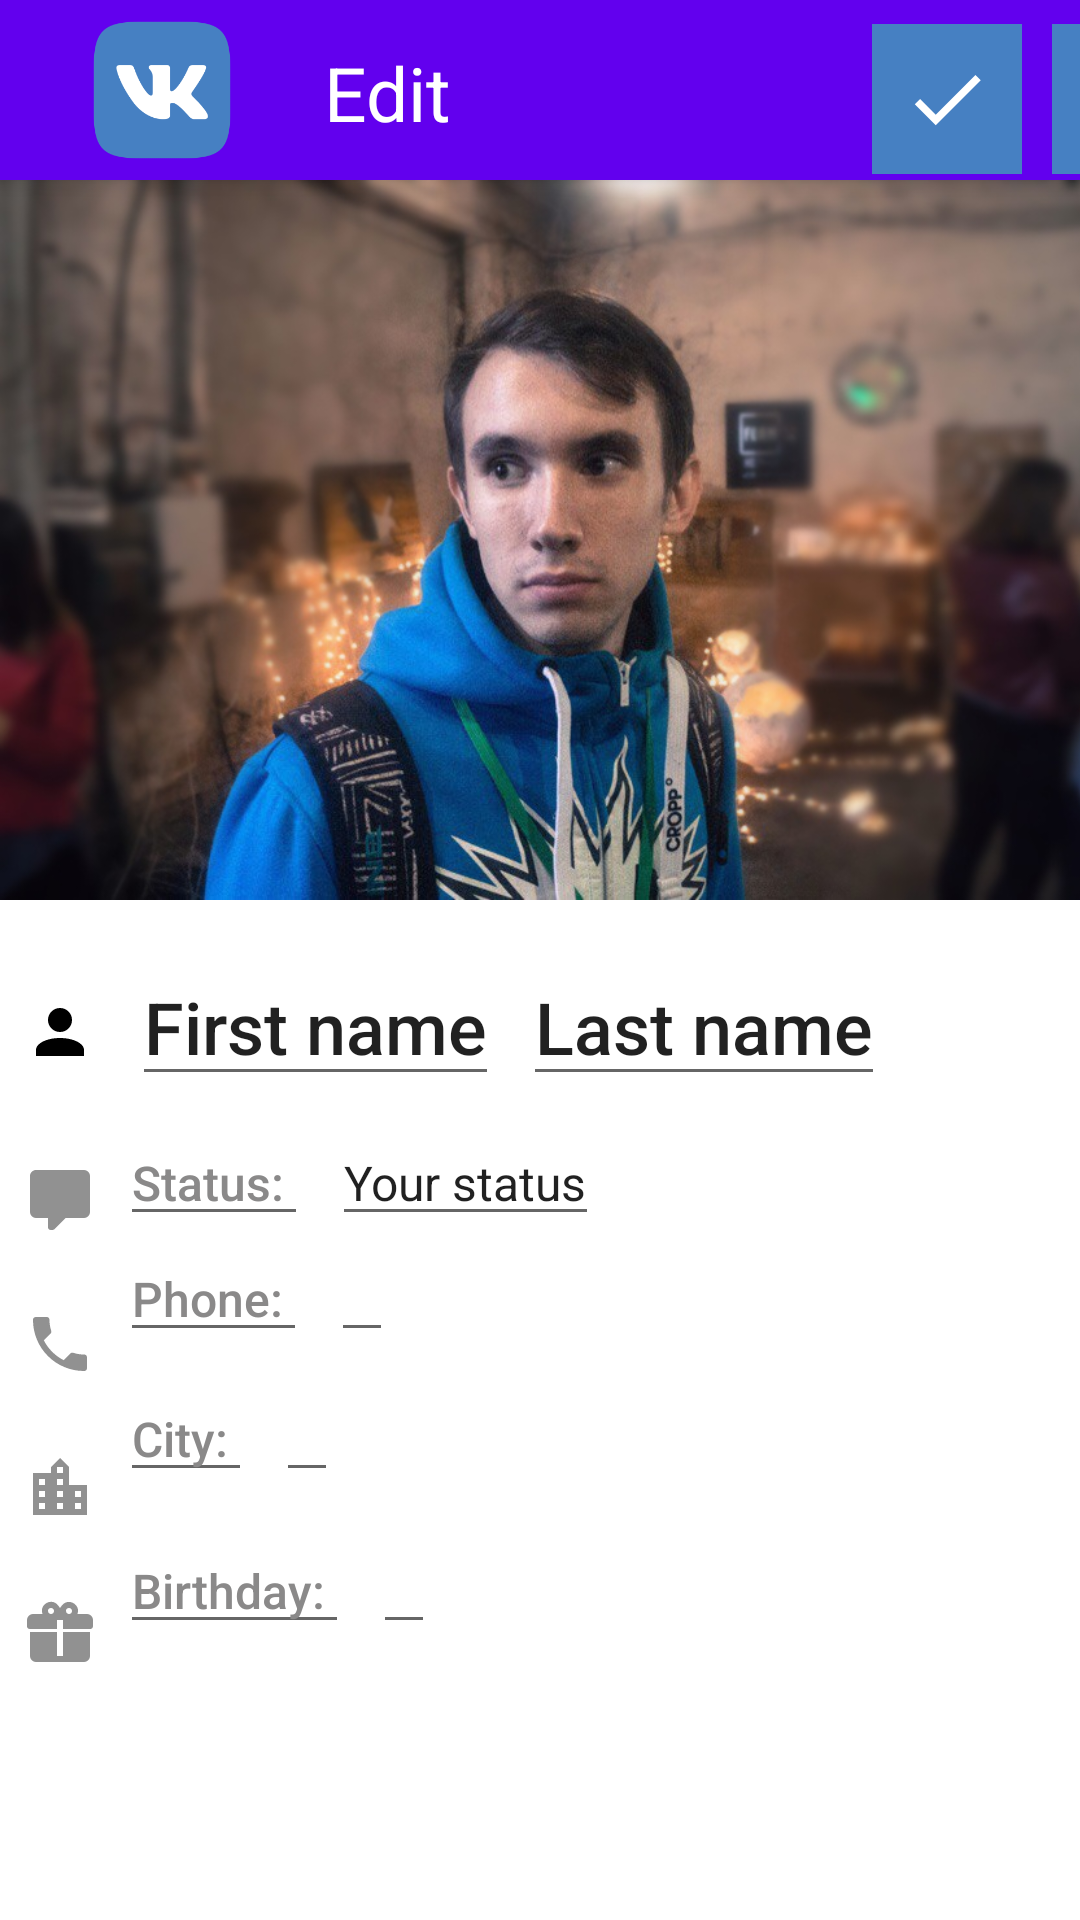

Icons on this 1080×1920 Android screen, each with its box as BBox(x1, y1, x2, y2):
account: BBox(36, 1008, 84, 1056)
check: BBox(872, 24, 1022, 174)
comment: BBox(30, 1170, 90, 1230)
gift: BBox(27, 1601, 93, 1662)
